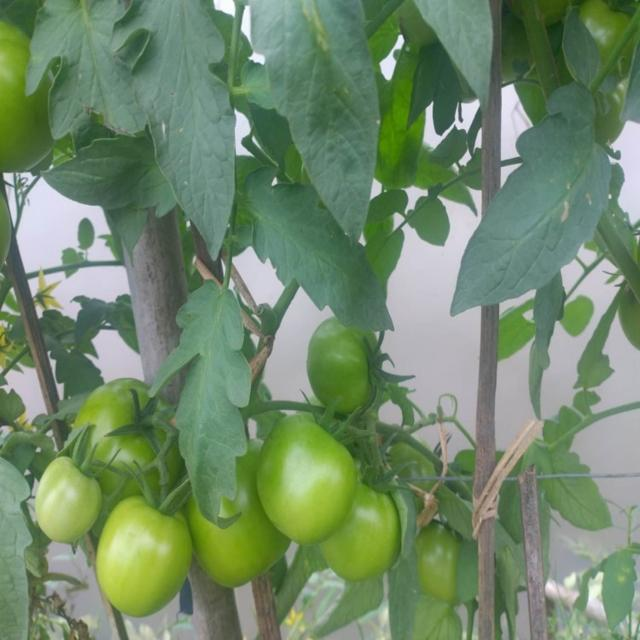tomato: (263, 408, 354, 548), (96, 506, 197, 614), (193, 495, 291, 588), (89, 381, 173, 489), (1, 16, 41, 180), (333, 481, 397, 579), (37, 455, 107, 541), (314, 323, 381, 407), (416, 528, 462, 599), (592, 1, 637, 56), (517, 1, 566, 24)
